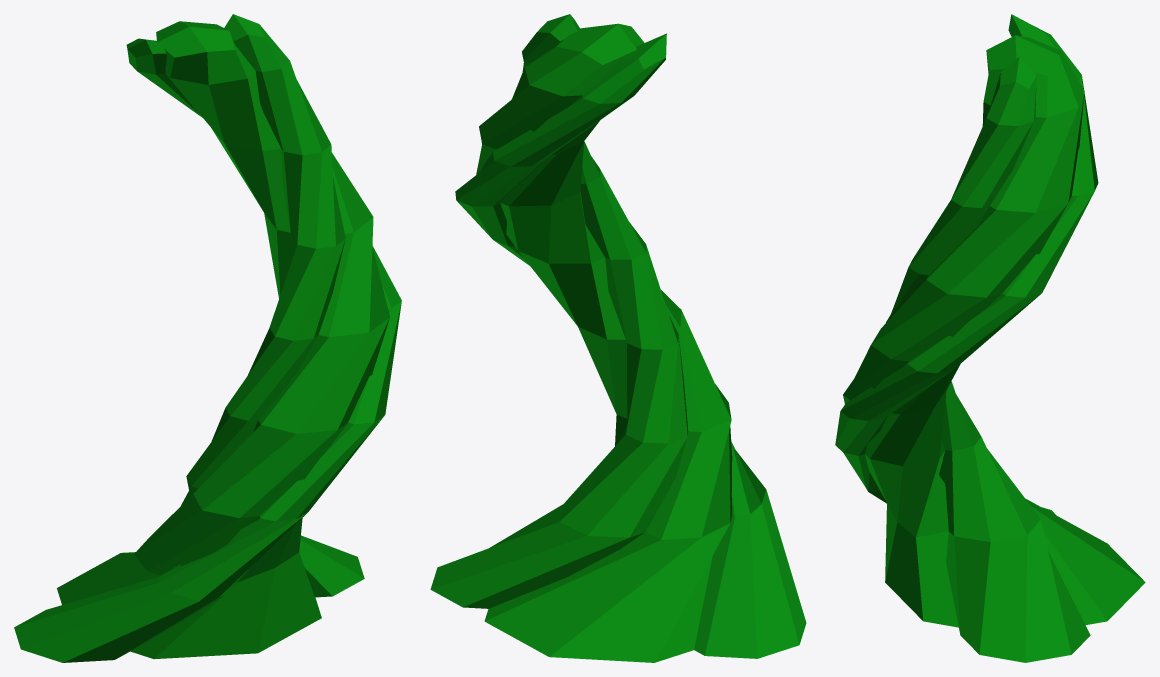
Rendered from beanstalk.gltf.
3 renders of one model, left to right at view 1: azimuth 30°, elevation 25°; view 2: azimuth 150°, elevation 25°; view 3: azimuth 270°, elevation 25°, orthographic. The views are drawn at different scales.
Visible parts, largest first — view 1: Cube.002; view 2: Cube.002; view 3: Cube.002.
Part boxes in pixels (x1,y1,x2,y2): Cube.002: [14, 14, 401, 662]; Cube.002: [430, 14, 806, 662]; Cube.002: [835, 14, 1145, 662].
Size of the model in its own units: 7.6 by 12.04 by 6.19.
